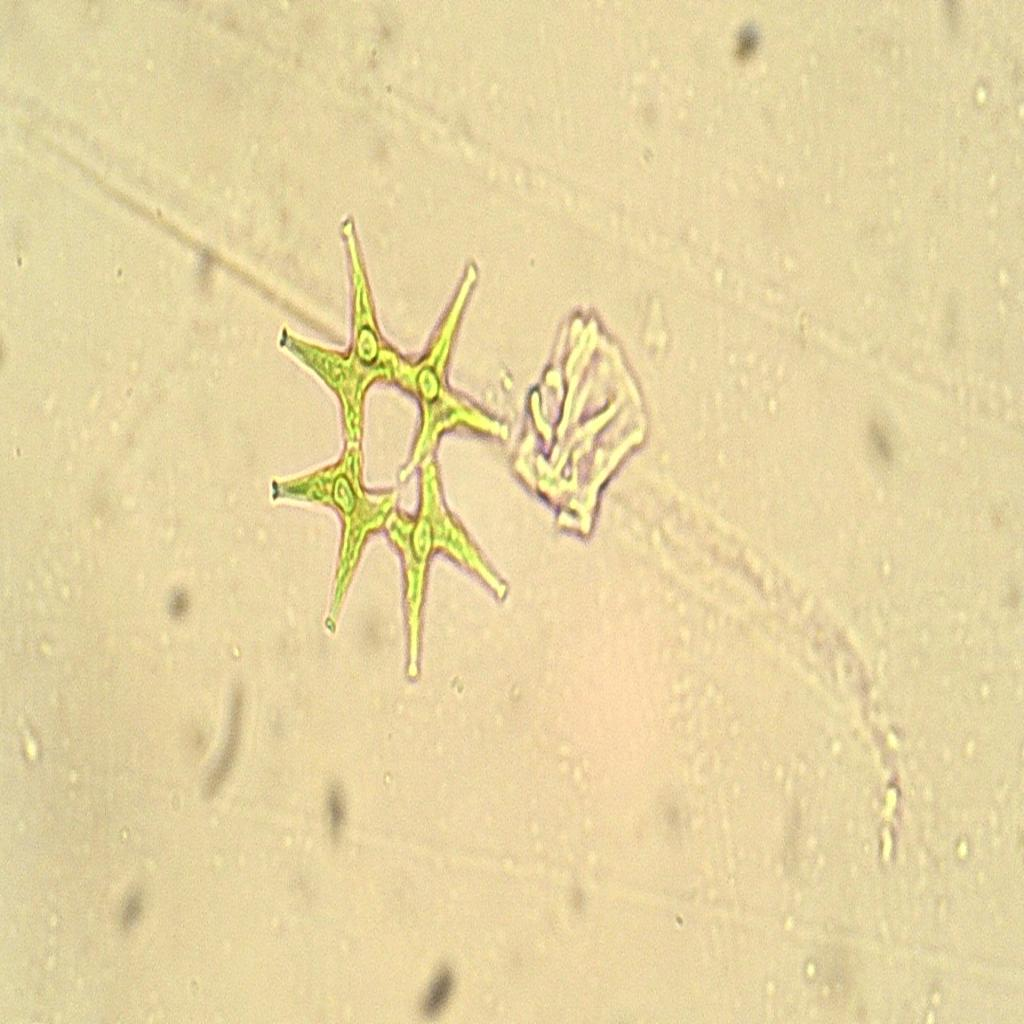Pediastrum_75FO: (257, 200, 537, 706)
